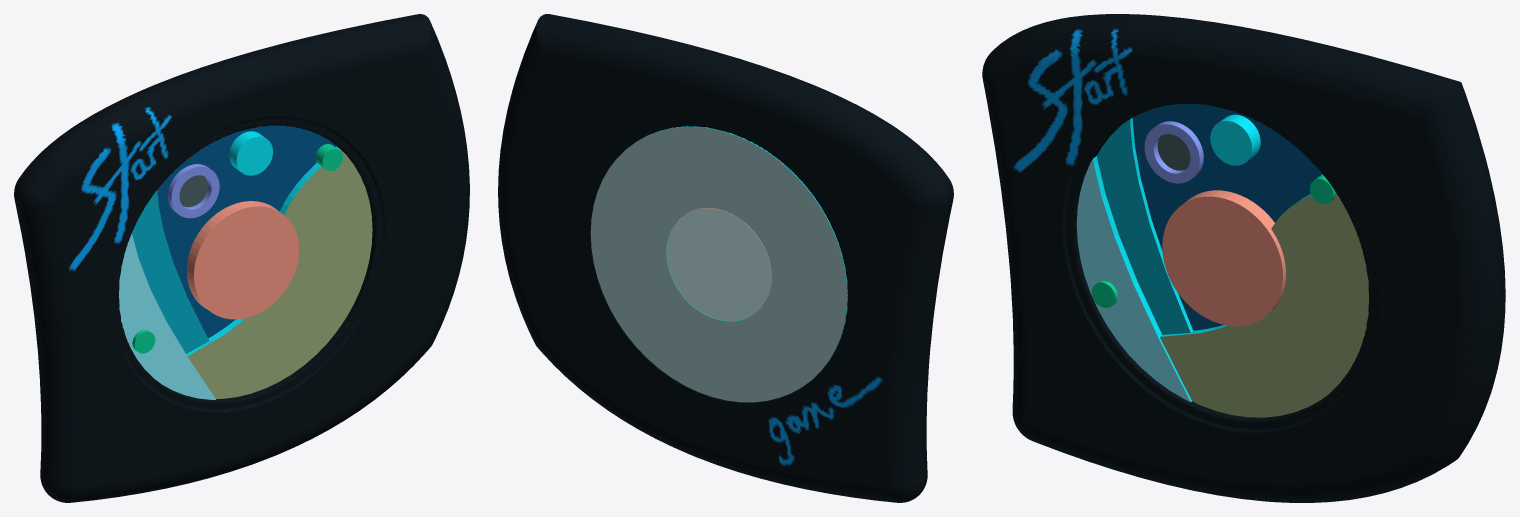
File: latedecemberSG.glb
The picture shows the model from 3 angles, left to right: view 1: azimuth 30°, elevation 25°; view 2: azimuth 150°, elevation 25°; view 3: azimuth 330°, elevation 25°; orthographic projection. The views are drawn at different scales.
Visible parts, largest first — view 1: Body 02, mesh4_mesh (×7), Body 03, mesh50_mesh; view 2: Body 02, mesh4_mesh (×2), mesh0_mesh; view 3: Body 02, mesh4_mesh (×7), Body 03.
Part boxes in pixels (bbox=[...]): Body 02: bbox=[14, 14, 469, 502]; mesh4_mesh (×7): bbox=[119, 125, 372, 399]; Body 03: bbox=[186, 201, 298, 319]; mesh50_mesh: bbox=[315, 144, 342, 170]; Body 02: bbox=[498, 14, 953, 502]; mesh4_mesh (×2): bbox=[590, 126, 847, 402]; mesh0_mesh: bbox=[666, 208, 771, 320]; Body 02: bbox=[982, 14, 1505, 502]; mesh4_mesh (×7): bbox=[1076, 103, 1369, 417]; Body 03: bbox=[1162, 190, 1285, 326].
Size of the model in its own units: 0.0887 by 0.0776 by 0.00953.
Materials: 14 (1 with a texture image).
